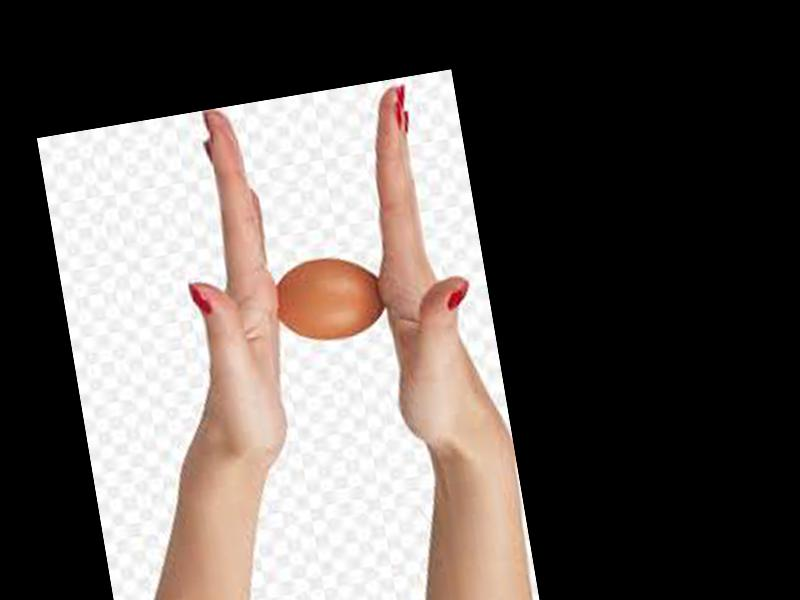Eggs: (270, 252, 387, 348)
